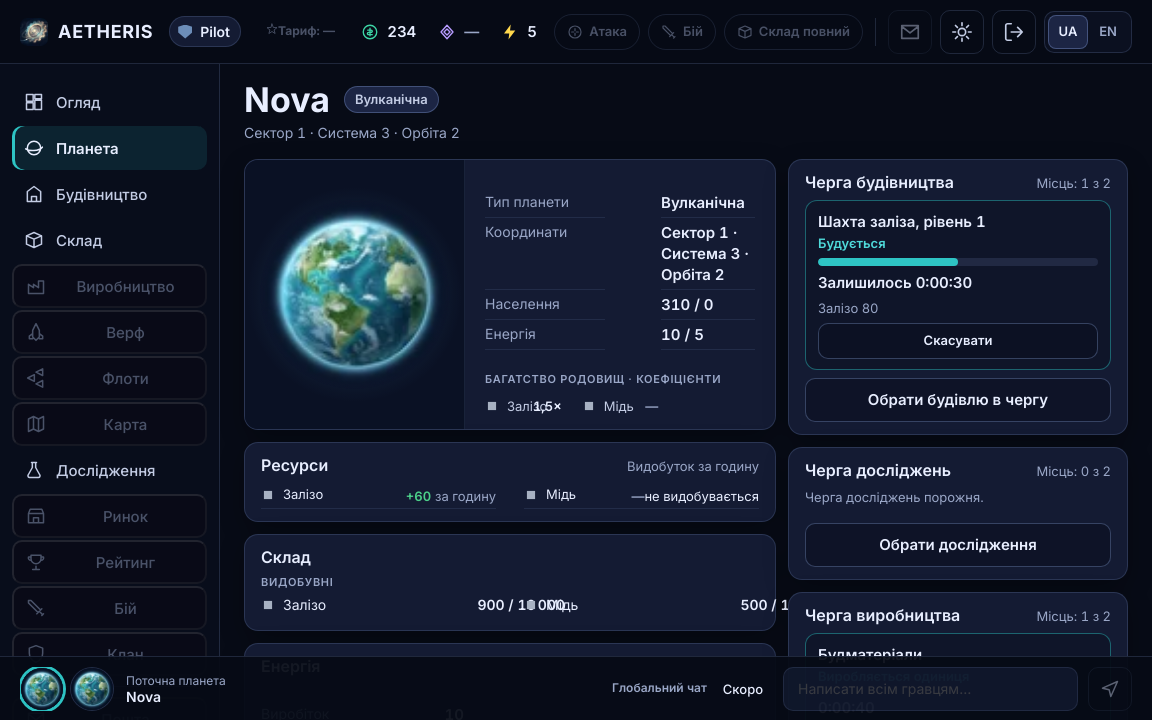
Test: the menu, the tabs of the phone and the bottom bar of the design (task 00020, section 7.8) › switches the planets with the thumbnails and outlines the current one
Expected: the text "Nova" is shown, [126,687,161,704]
Click the button named "Vega": point(92, 688) [70,666,114,710]
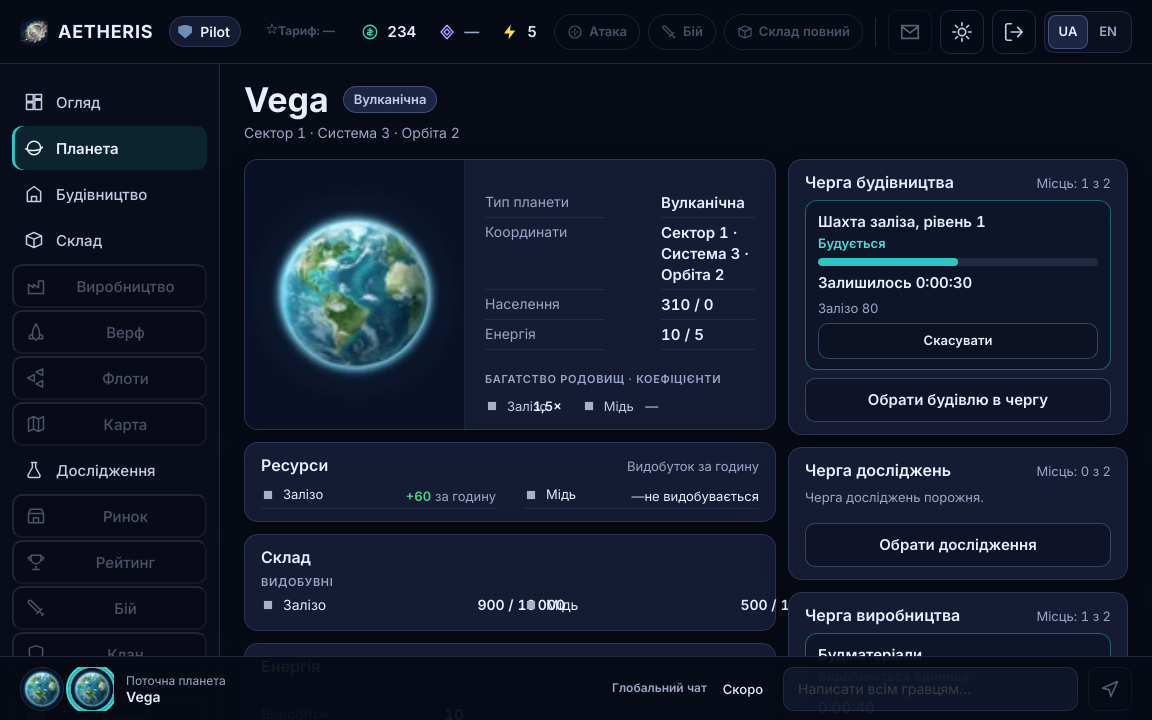
Result: the text "Vega" is shown at [126,687,160,704]
Result: the heading "Vega" is shown at [244,80,329,119]
